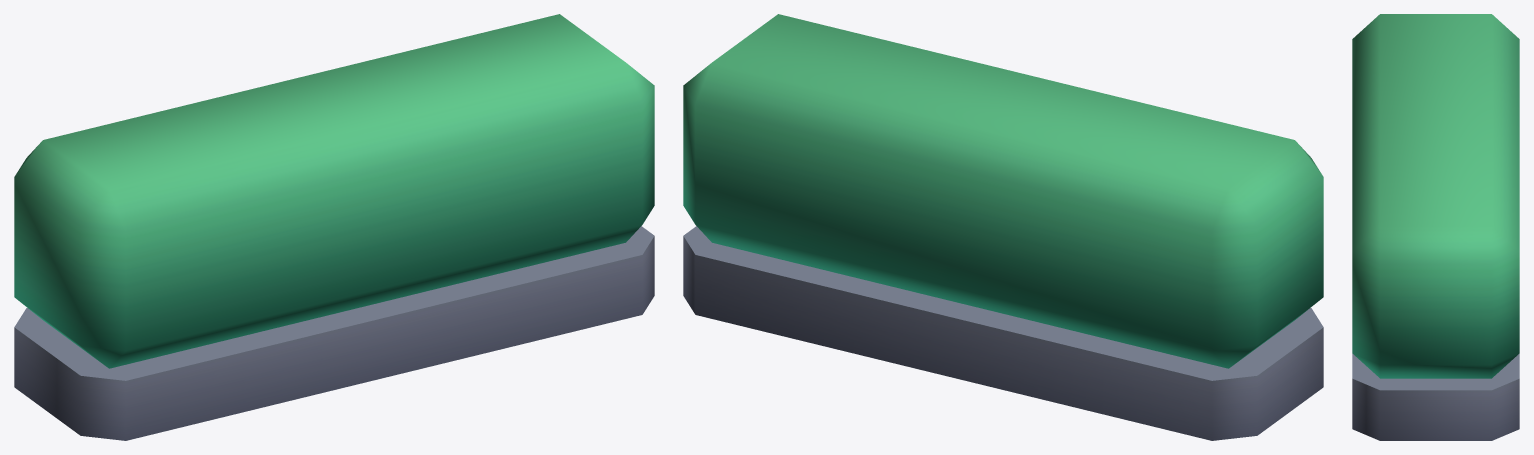
Rendered from kenney-platformer-hedge.glb.
3 views of the same model, side by side, from view 1: azimuth 30°, elevation 25°; view 2: azimuth 150°, elevation 25°; view 3: azimuth 270°, elevation 25° (orthographic). The views are drawn at different scales.
Parts seen in each view (by area): view 1: hedge; view 2: hedge; view 3: hedge.
Boxes of the visible parts, x1,y1,x2,y2 form: hedge: (14,14,654,440); hedge: (683,14,1323,440); hedge: (1352,14,1519,440).
Size of the model in its own units: 1 by 0.3999 by 0.3.
Materials: 1 (1 with a texture image).
